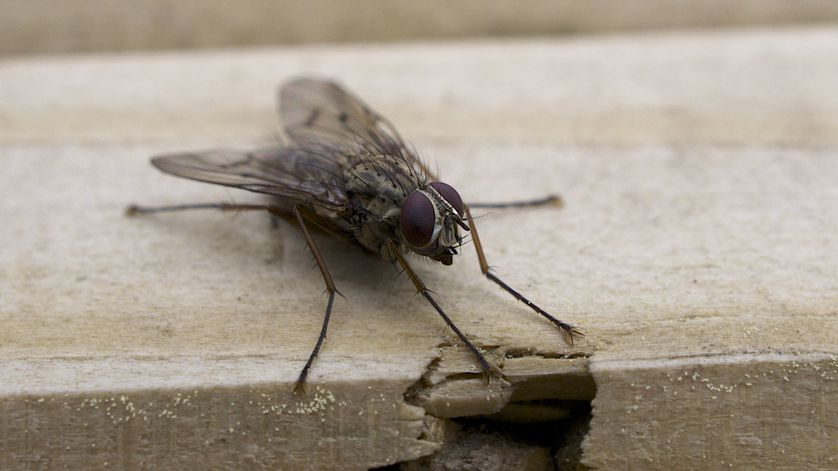fly: (113, 69, 597, 415)
